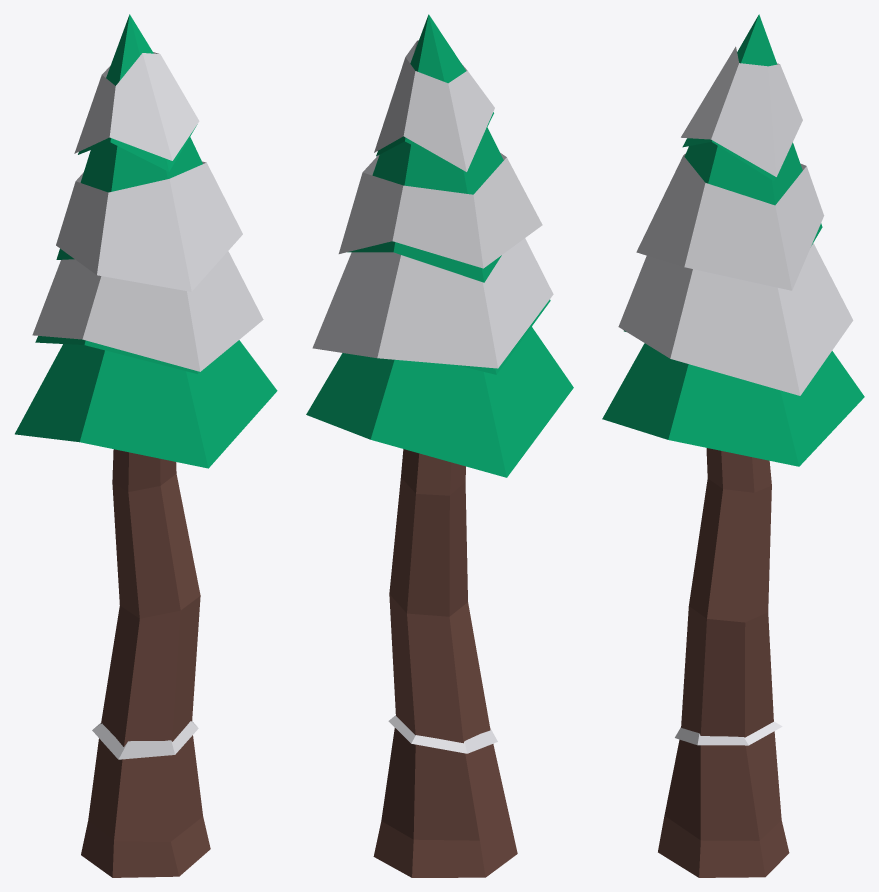
Rendered from Tree05.fbx.
3 views of the same model, side by side, from view 1: azimuth 30°, elevation 25°; view 2: azimuth 150°, elevation 25°; view 3: azimuth 270°, elevation 25° (orthographic). The views are drawn at different scales.
Parts seen in each view (by area): view 1: Tree05_Stem, Tree05_Stump, Tree05_Stump_Snow; view 2: Tree05_Stem, Tree05_Stump, Tree05_Stump_Snow; view 3: Tree05_Stem, Tree05_Stump, Tree05_Stump_Snow.
Part boxes in pixels (x1,y1,x2,y2): Tree05_Stem: (15,14,277,746); Tree05_Stump: (81,735,210,877); Tree05_Stump_Snow: (92,721,198,759); Tree05_Stem: (306,14,573,743); Tree05_Stump: (373,728,517,877); Tree05_Stump_Snow: (388,715,497,753); Tree05_Stem: (602,14,864,737); Tree05_Stump: (658,731,789,877); Tree05_Stump_Snow: (675,721,782,745).
Bounding box in the file's own units: 1.23 × 4.87 × 1.38.
Materials: 1 (1 with a texture image).
